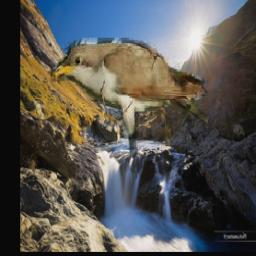Cuckoo: (50, 39, 207, 158)
